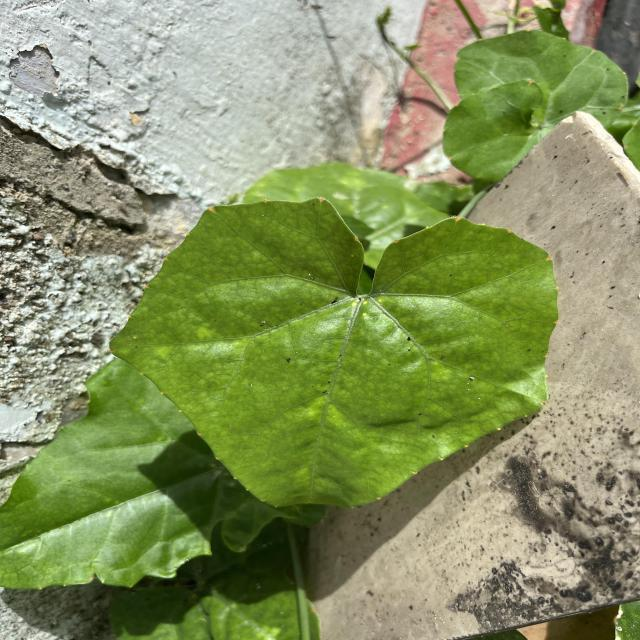Coccinia grandis: (105, 193, 565, 512)
